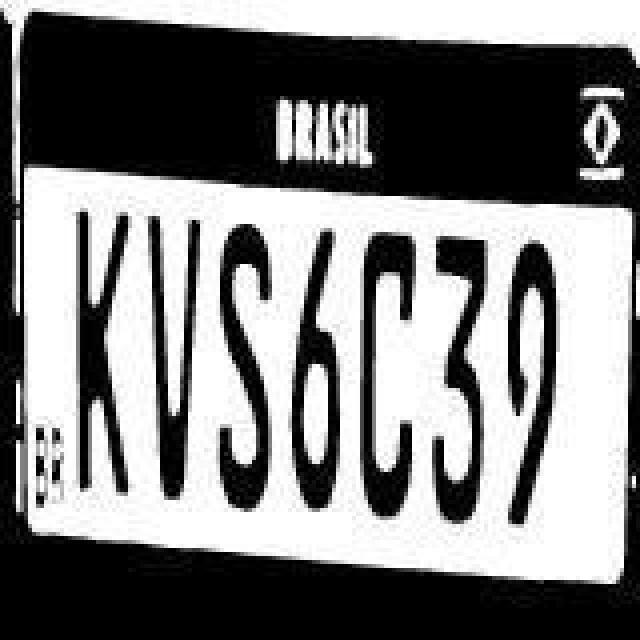3: (424, 240, 488, 536)
6: (276, 214, 348, 522)
9: (492, 230, 564, 538)
C: (352, 230, 416, 530)
K: (74, 214, 150, 522)
S: (212, 220, 284, 524)
V: (146, 212, 206, 524)
